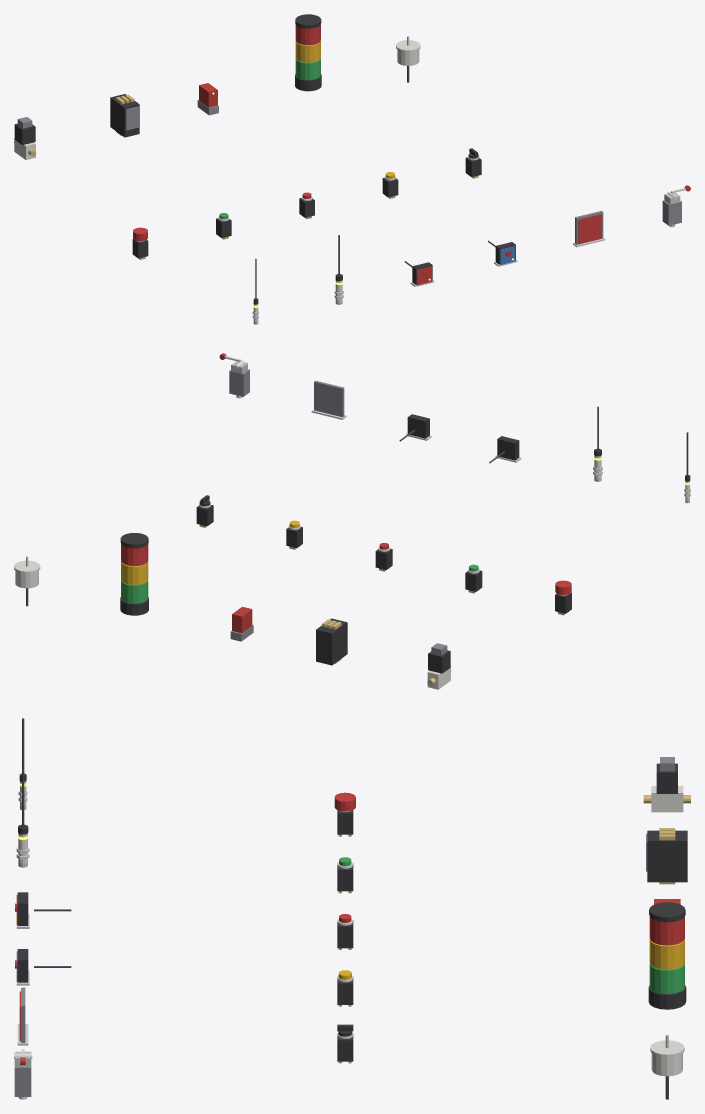
The model's file is devices.glb.
3 views of the same model, one above another, from view 1: azimuth 30°, elevation 25°; view 2: azimuth 150°, elevation 25°; view 3: azimuth 270°, elevation 25° (orthographic). The views are drawn at different scales.
Parts seen in each view (by area): view 1: Cont_Body, Reflector_Face; view 2: Cont_Body, Reflector_Body, Stack_T0, Stack_T1; view 3: Cont_Body, Stack_T0, Stack_T1, Stack_T2, Sol_Body, Stack_Base, Stack_Cap, Enc_Body.
Boxes of the visible parts, box(x1,y1,x2,y2) form: Cont_Body: box(110, 94, 139, 137); Reflector_Face: box(578, 214, 601, 244); Cont_Body: box(316, 618, 347, 665); Reflector_Body: box(314, 380, 344, 417); Stack_T0: box(121, 579, 148, 603); Stack_T1: box(121, 560, 148, 584); Cont_Body: box(647, 830, 687, 882); Stack_T0: box(649, 963, 684, 994); Stack_T1: box(649, 939, 684, 969); Stack_T2: box(649, 916, 684, 945); Sol_Body: box(651, 786, 683, 812); Stack_Base: box(648, 985, 686, 1009); Stack_Cap: box(649, 902, 685, 922); Enc_Body: box(651, 1053, 682, 1076).
Bounding box in the file's own units: 1.32 × 0.2555 × 1.26.
